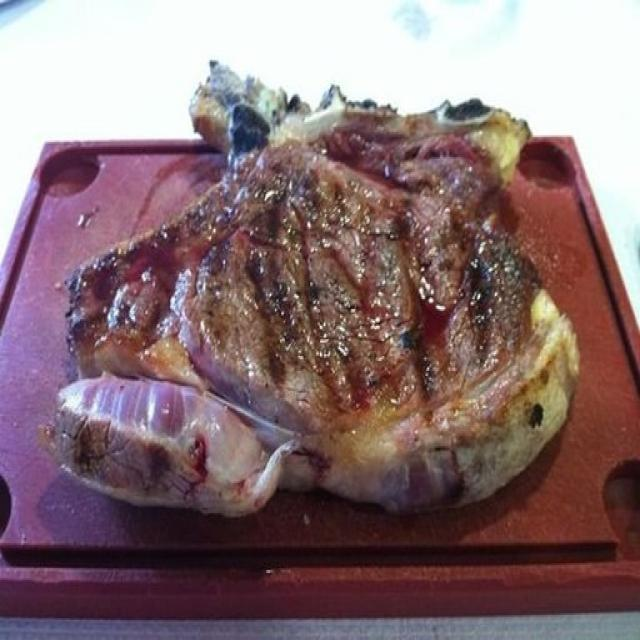Steak: (75, 82, 580, 550)
